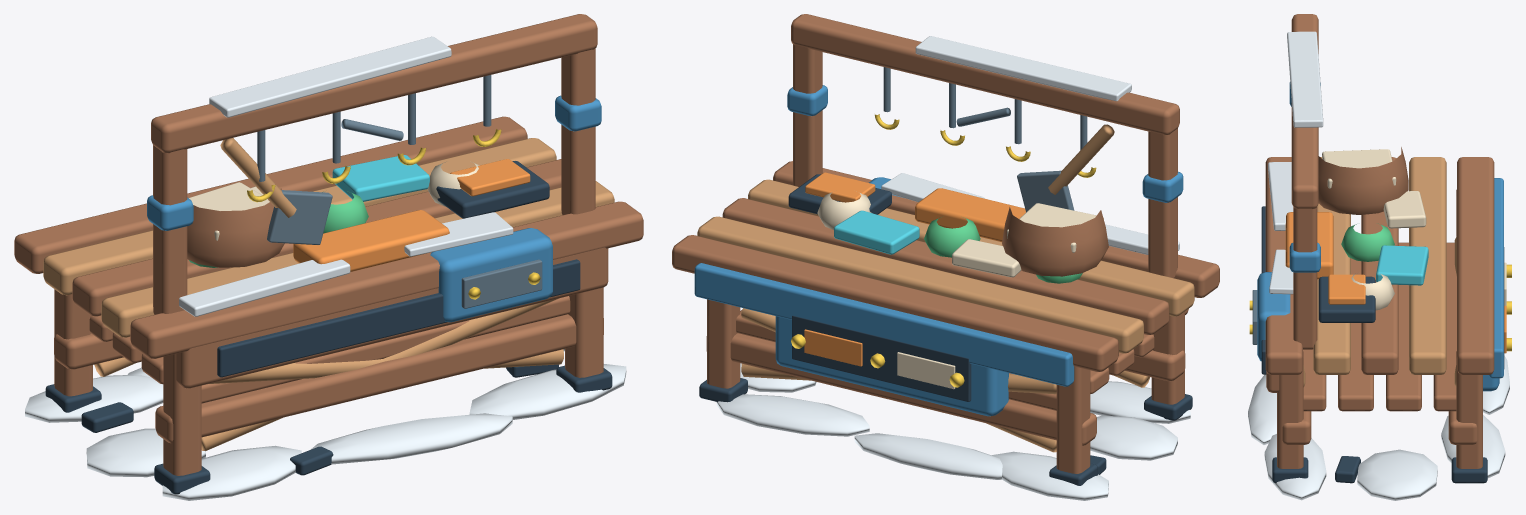
Rendered from service_counter.glb.
3 renders of one model, left to right at view 1: azimuth 30°, elevation 25°; view 2: azimuth 150°, elevation 25°; view 3: azimuth 270°, elevation 25°, orthographic. The views are drawn at different scales.
Parts seen in each view (by area): view 1: service_counter; view 2: service_counter; view 3: service_counter.
Boxes of the visible parts, box(x1,y1,x2,y2) form: service_counter: box(14, 14, 643, 500); service_counter: box(672, 14, 1219, 500); service_counter: box(1248, 14, 1511, 500).
Bounding box in the file's own units: 3.2 × 2.32 × 1.77.
